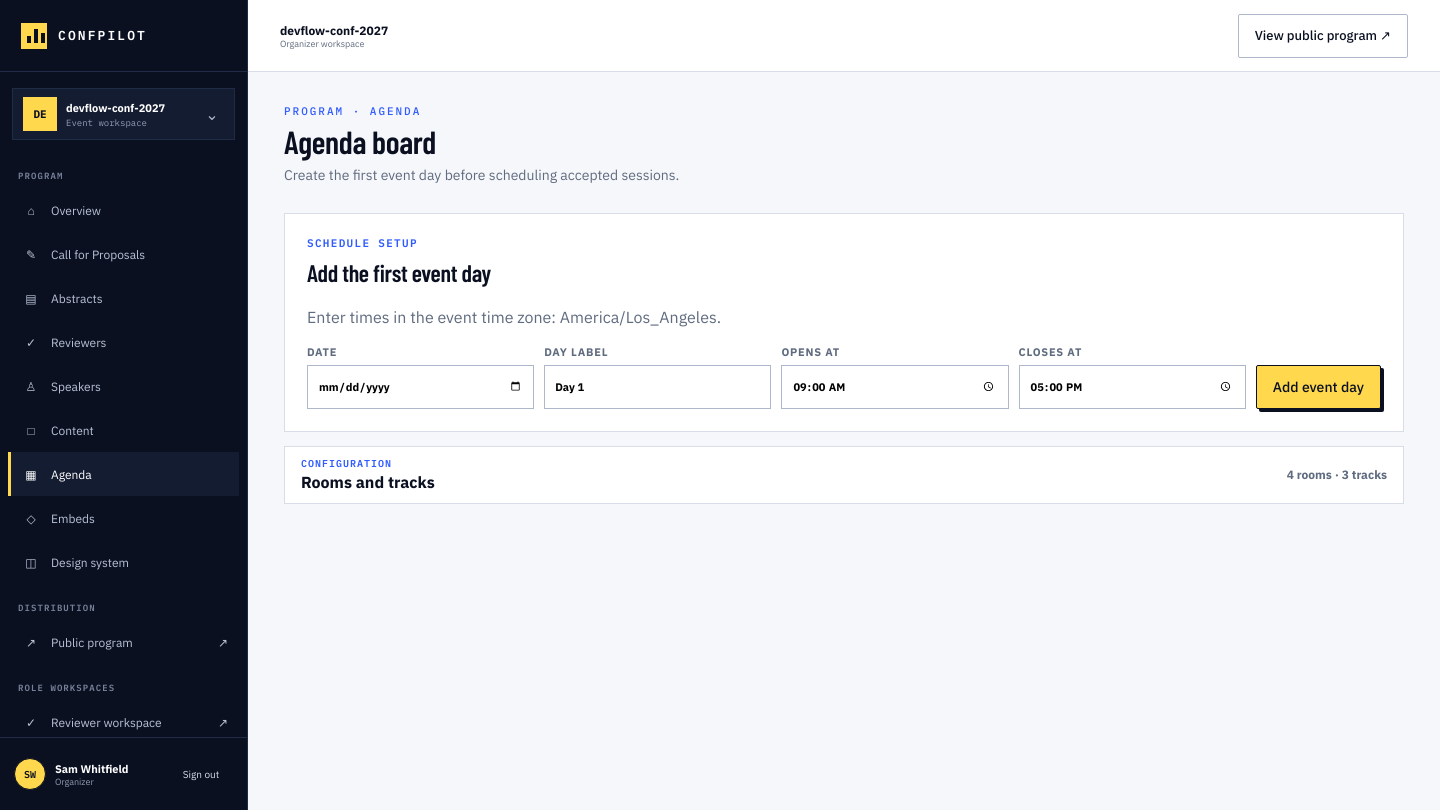
it: ConfPilot Phase 0 shell › lets an organizer create the first agenda day from the empty state
Check: the heading "Add the first event day" is shown, box [307,258,491,287]
Type "2027-05-12" into the date field labelled "Date" at (421, 387), box [307,365,534,409]
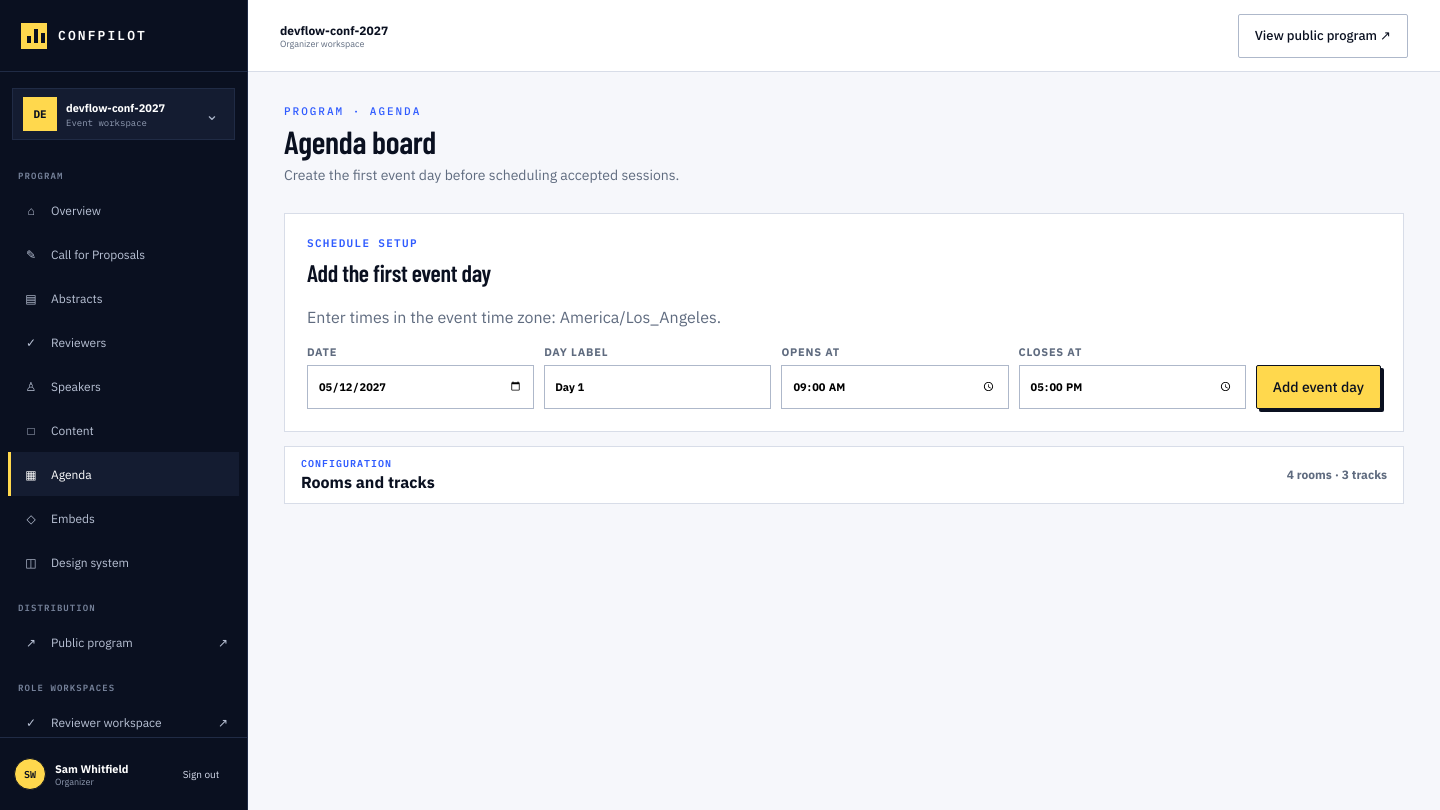
Click the button "Add event day" at (1318, 387), box [1256,365,1381,409]
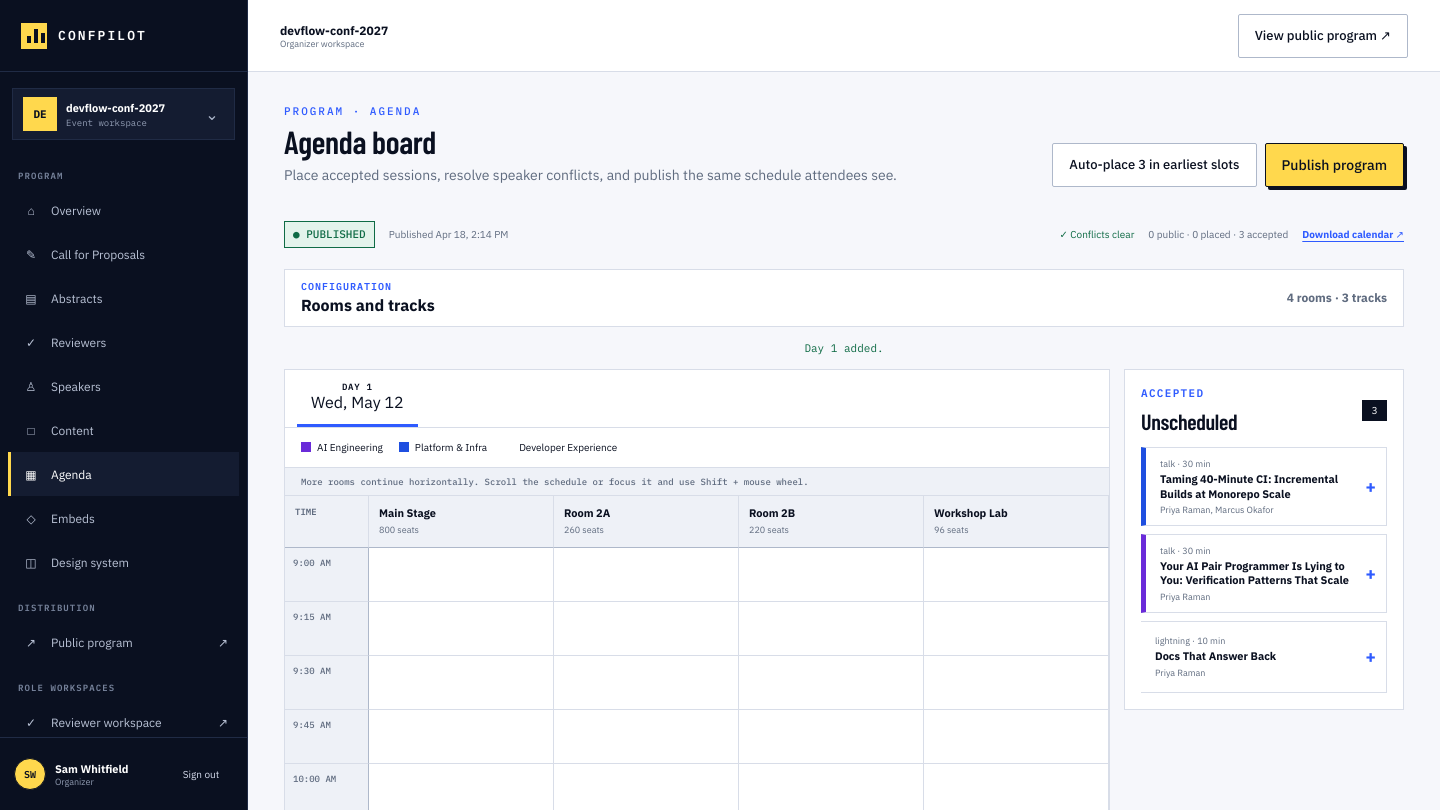
Check: the tab "Day 1 Wed, May 12" is shown, box [297,370,418,426]
Check: the text "Day 1 added." is shown, box [804,340,884,354]
